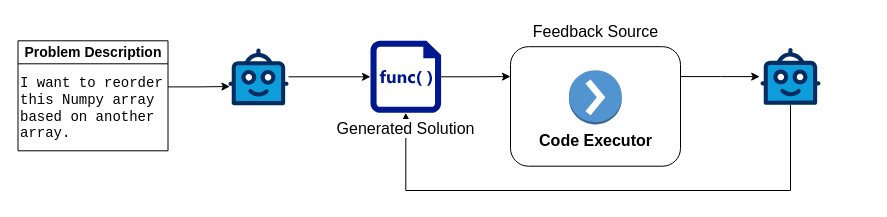
Some shapes in this 887 by 217 pixel diagram are drawn without their labels. Each missing label, with the centre of its shape:
"Initial Code Generator" belongs at point 258,76.
"Self-Correcting Code Generator" belongs at point 790,76.
